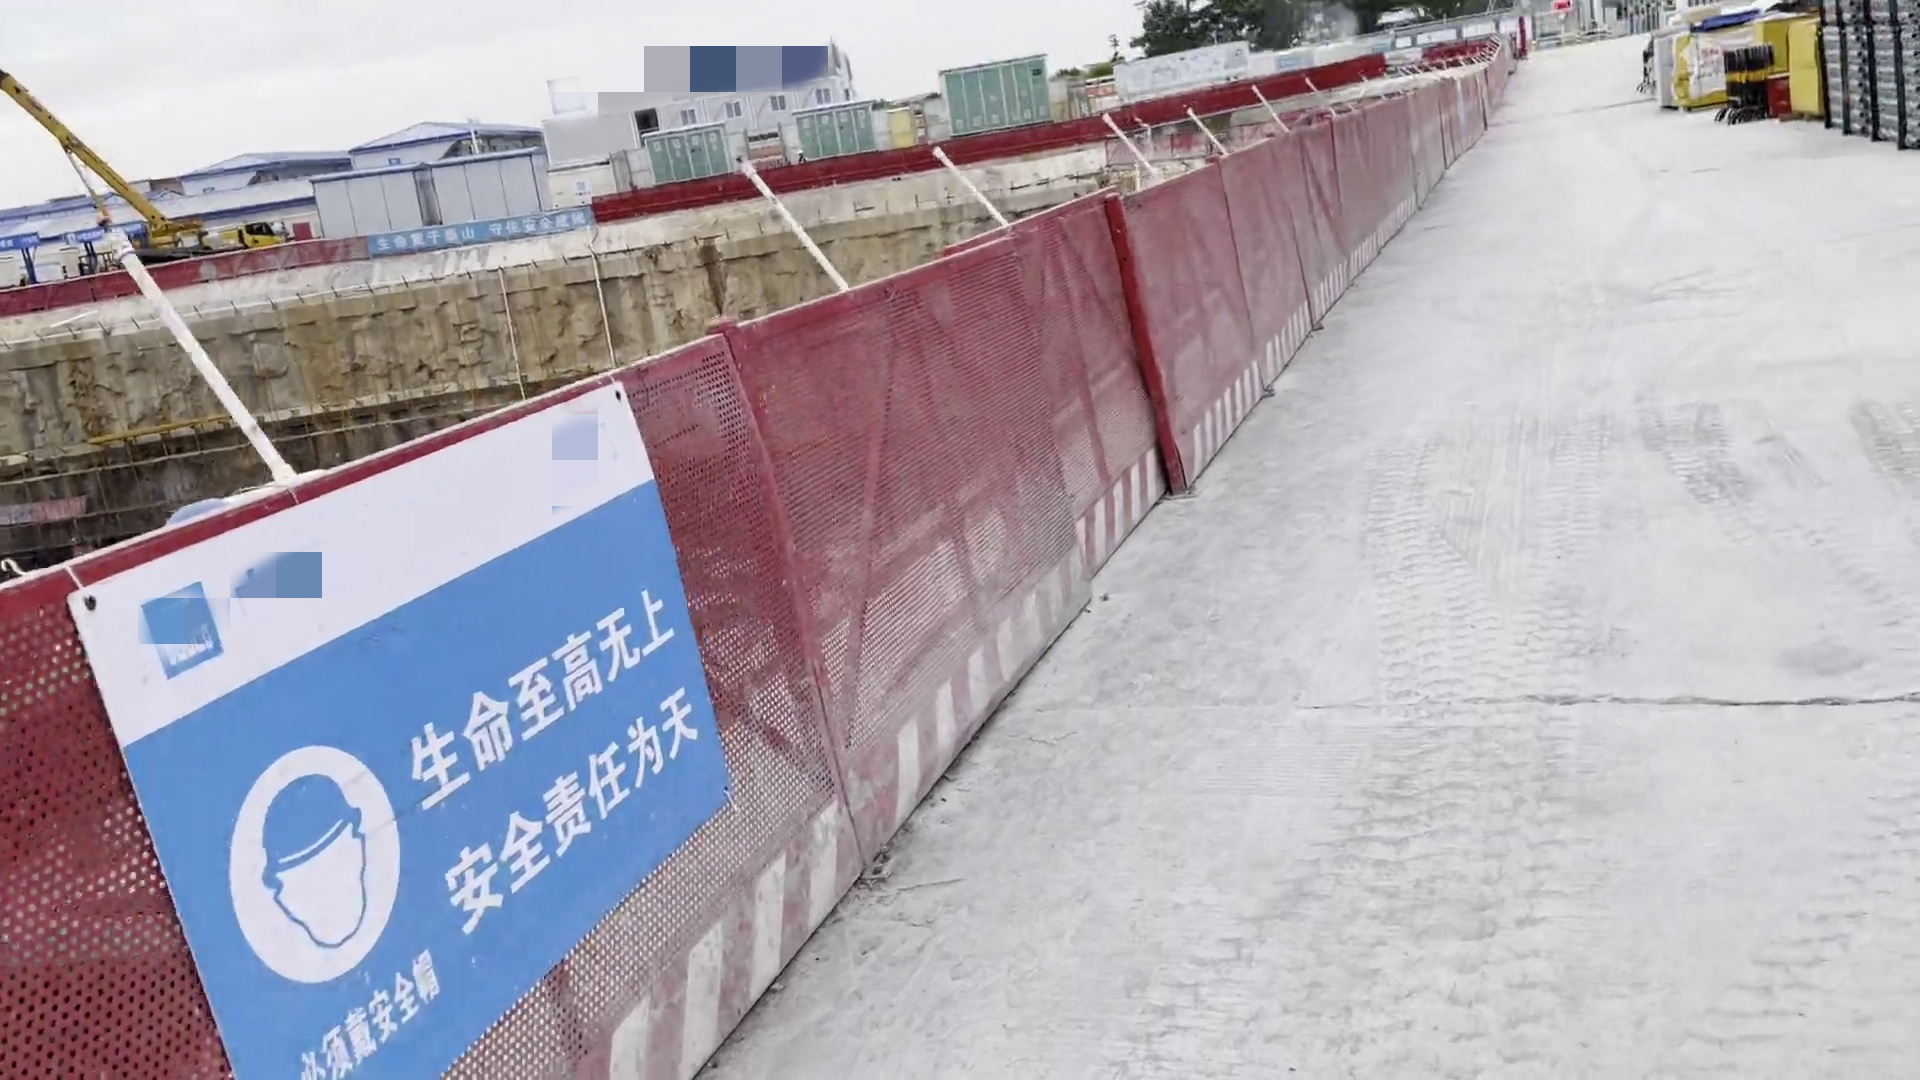fence: (3, 47, 1518, 1077)
slogan: (414, 597, 703, 938), (369, 204, 600, 252)
